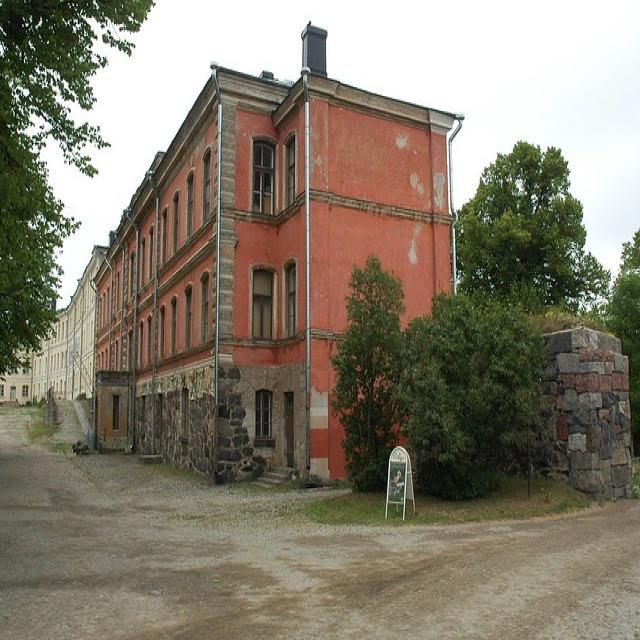building: (94, 19, 464, 492)
